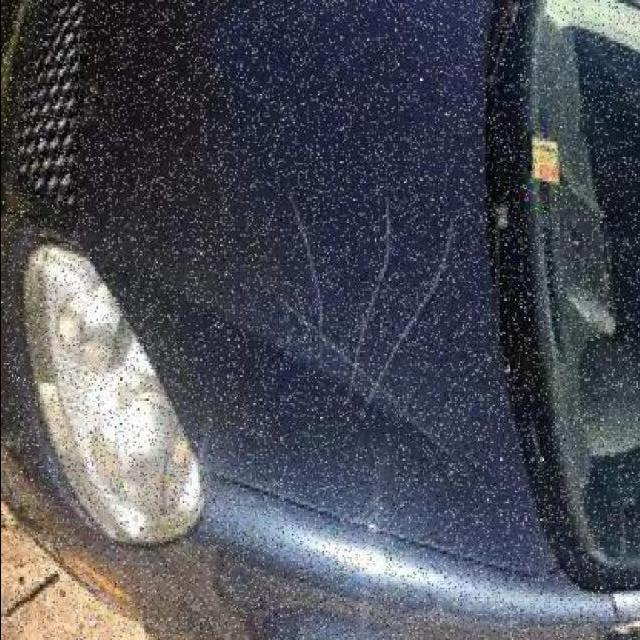bonnet-dent: (126, 0, 492, 637)
